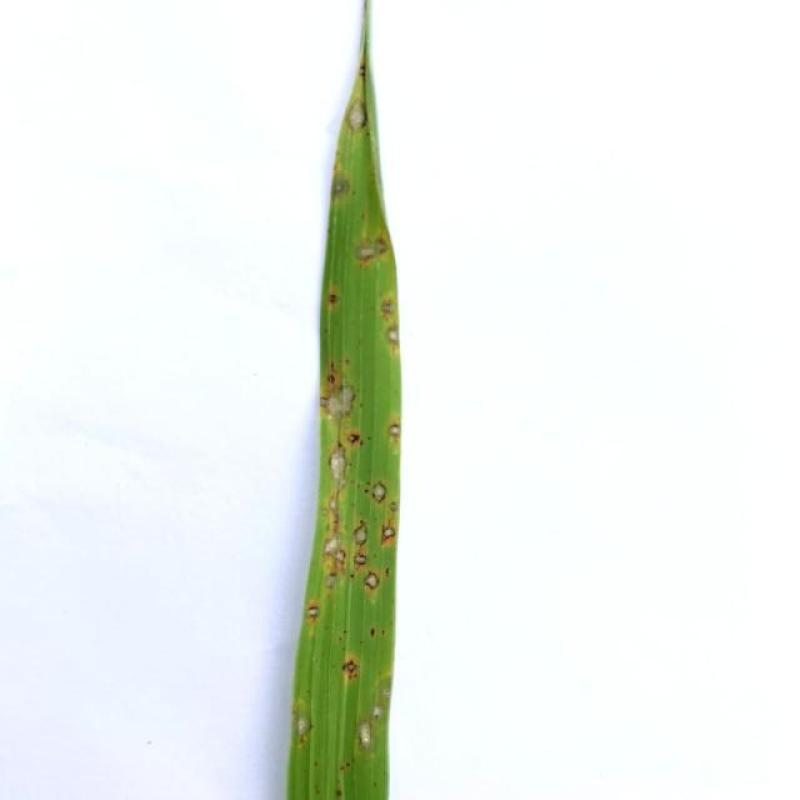Leaf_Blast: (340, 682, 422, 752), (301, 518, 351, 582), (281, 701, 339, 754), (361, 291, 410, 349), (316, 512, 428, 536), (318, 371, 368, 420), (305, 276, 346, 322), (304, 449, 360, 482), (336, 424, 372, 461), (358, 556, 386, 595), (364, 470, 390, 508), (380, 408, 404, 448), (346, 239, 382, 259), (330, 175, 356, 195)
